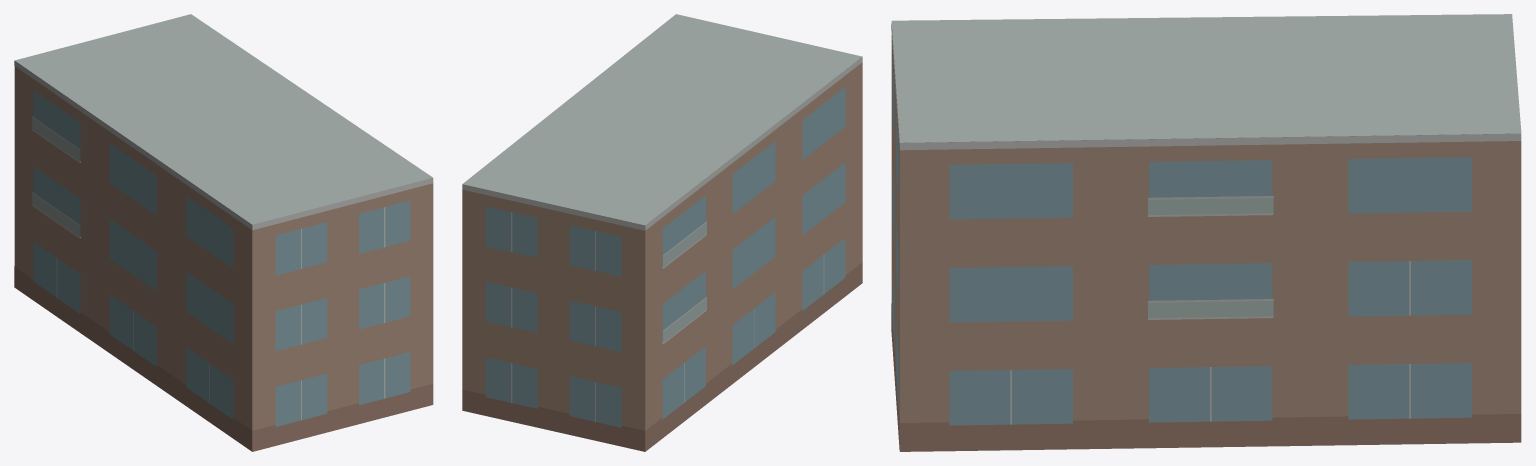
The model's file is survey-upis-32906684.glb.
3 renders of one model, left to right at view 1: azimuth 30°, elevation 25°; view 2: azimuth 150°, elevation 25°; view 3: azimuth 270°, elevation 25°, orthographic. The views are drawn at different scales.
Parts seen in each view (by area): view 1: survey-upis-32906684.tmp; view 2: survey-upis-32906684.tmp; view 3: survey-upis-32906684.tmp.
Part boxes in pixels (<box>): survey-upis-32906684.tmp: <box>14,14,433,451</box>; survey-upis-32906684.tmp: <box>462,14,862,451</box>; survey-upis-32906684.tmp: <box>891,14,1521,451</box>.
Bounding box in the file's own units: 9.13 × 10.2 × 18.86.
